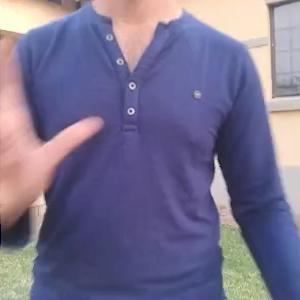land_hand: (0, 31, 112, 238)
